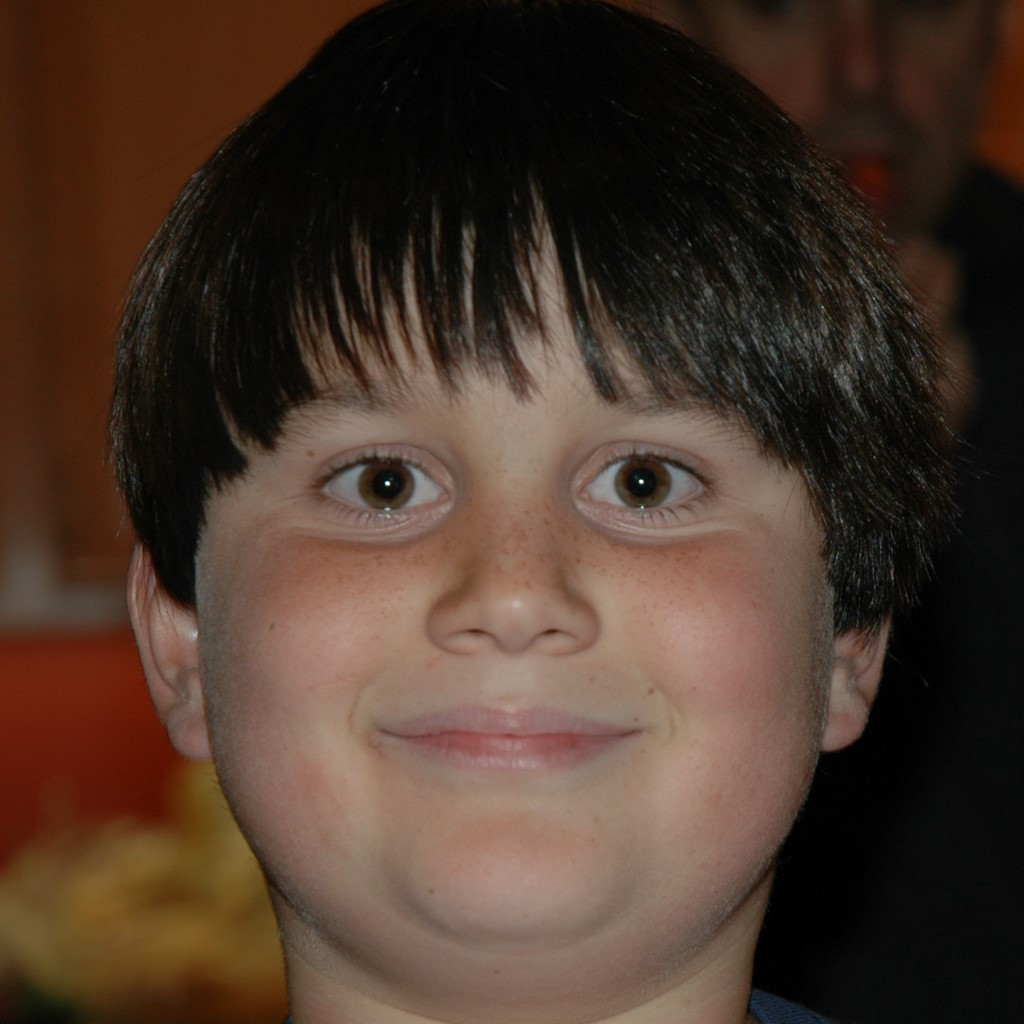sin_mascara: (168, 98, 868, 1007)
